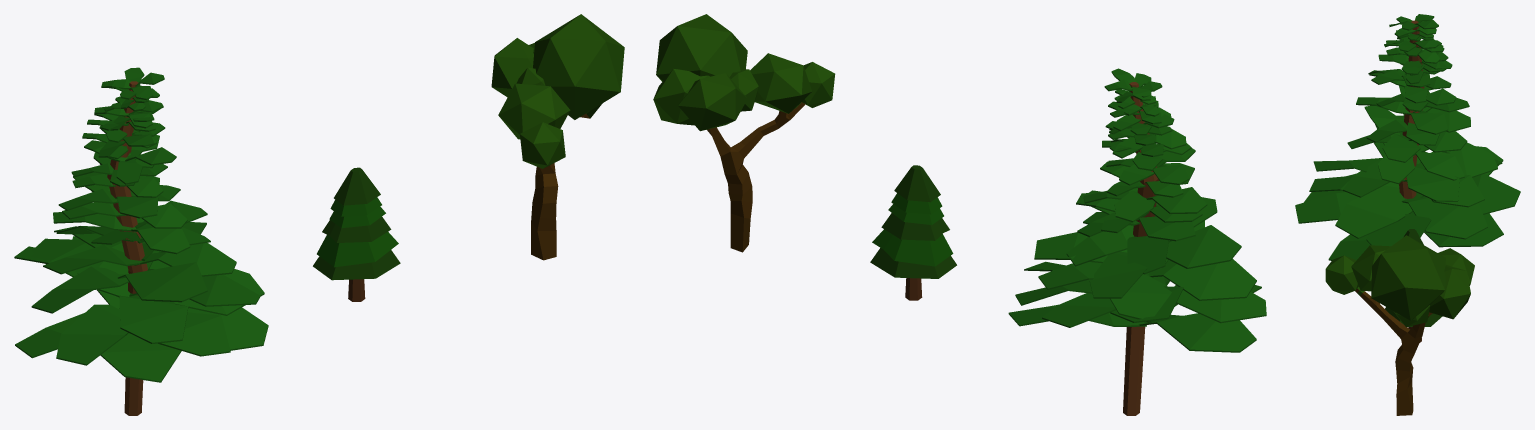
File: tree 3 and 4 and 5 updated.fbx
The picture shows the model from 3 angles, left to right: view 1: azimuth 30°, elevation 25°; view 2: azimuth 150°, elevation 25°; view 3: azimuth 270°, elevation 25°; orthographic projection. The views are drawn at different scales.
Visible parts, largest first — view 1: Cylinder.001, Icosphere.006, Cylinder; view 2: Cylinder.001, Icosphere.006, Cylinder; view 3: Cylinder.001, Icosphere.006, Cylinder.
Part boxes in pixels (x1,y1,x2,y2): Cylinder.001: (14,67,268,415); Icosphere.006: (491,14,624,260); Cylinder: (313,167,400,301); Cylinder.001: (1008,68,1266,415); Icosphere.006: (653,14,835,252); Cylinder: (870,165,956,300); Cylinder.001: (1295,14,1520,260); Icosphere.006: (1325,235,1474,415); Cylinder: (1385,229,1442,342).
Size of the model in its own units: 2724 by 1464 by 1056.
